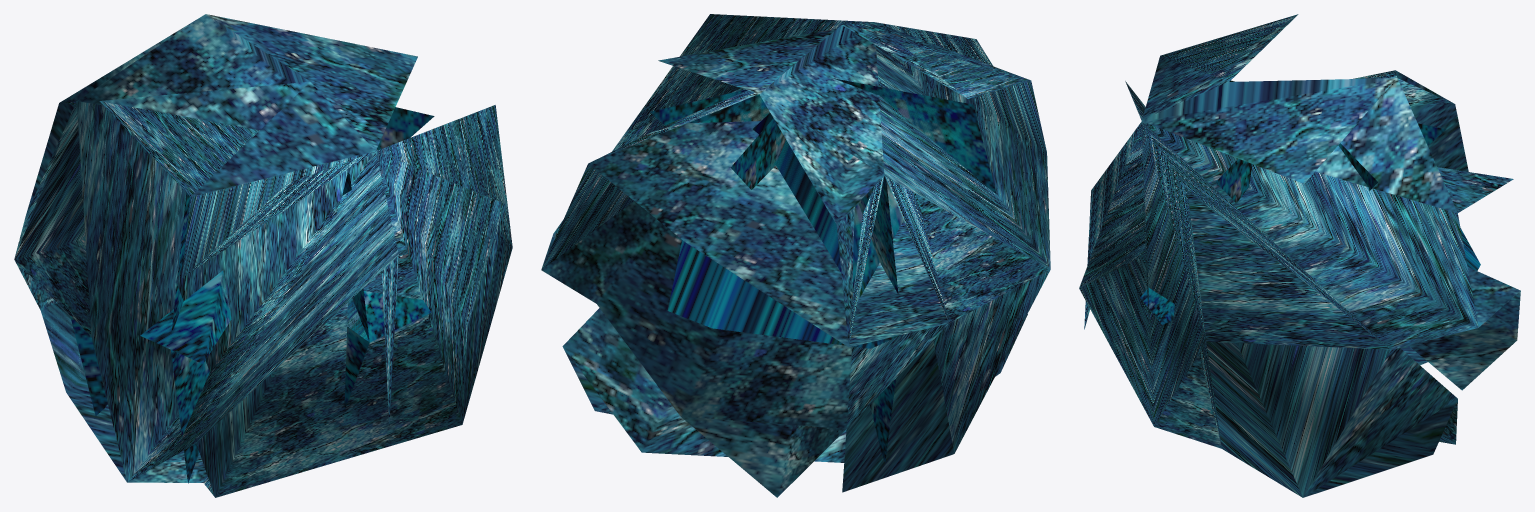
File: cef_cryoban_gernade.fbx
The picture shows the model from 3 angles, left to right: view 1: azimuth 30°, elevation 25°; view 2: azimuth 150°, elevation 25°; view 3: azimuth 270°, elevation 25°; orthographic projection. The views are drawn at different scales.
Visible parts, largest first — view 1: mesh_node; view 2: mesh_node; view 3: mesh_node.
Boxes of the visible parts, box(x1,y1,x2,y2) form: mesh_node: box(14, 14, 512, 497); mesh_node: box(541, 14, 1050, 497); mesh_node: box(1079, 14, 1520, 497).
Size of the model in its own units: 1.46 by 1.35 by 1.48.
